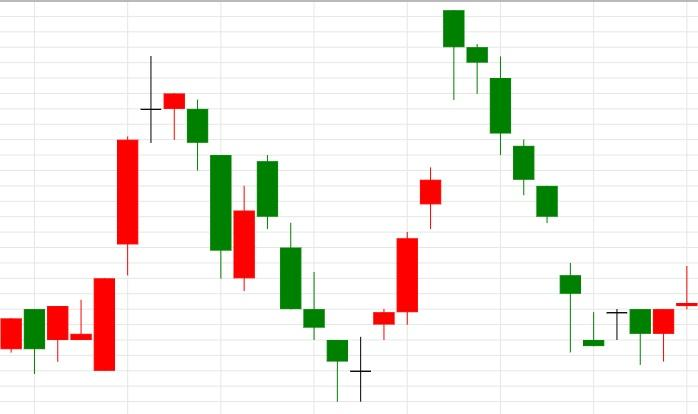hanging_man_fall: (350, 9, 464, 402)
